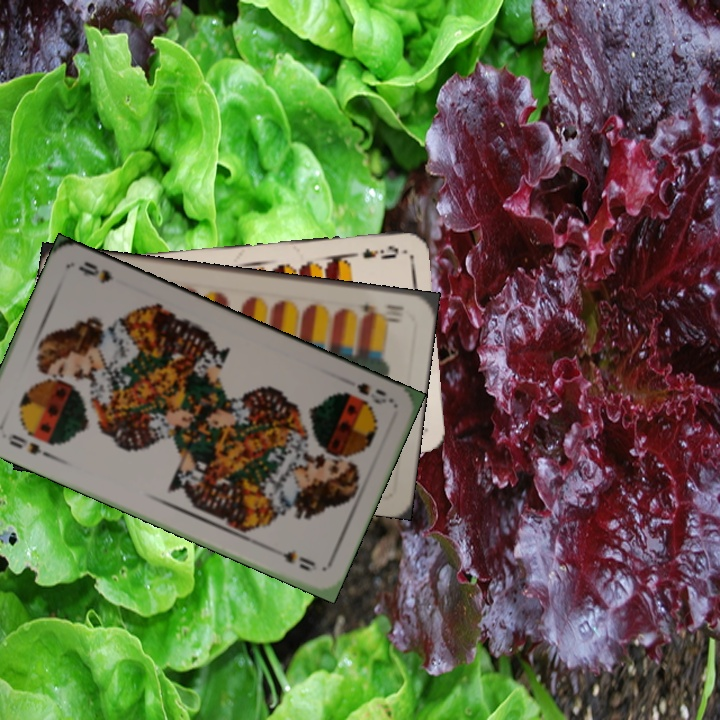E10: (359, 300, 406, 322)
E9: (346, 241, 401, 262)
SO: (5, 430, 54, 461), (352, 379, 395, 408)
